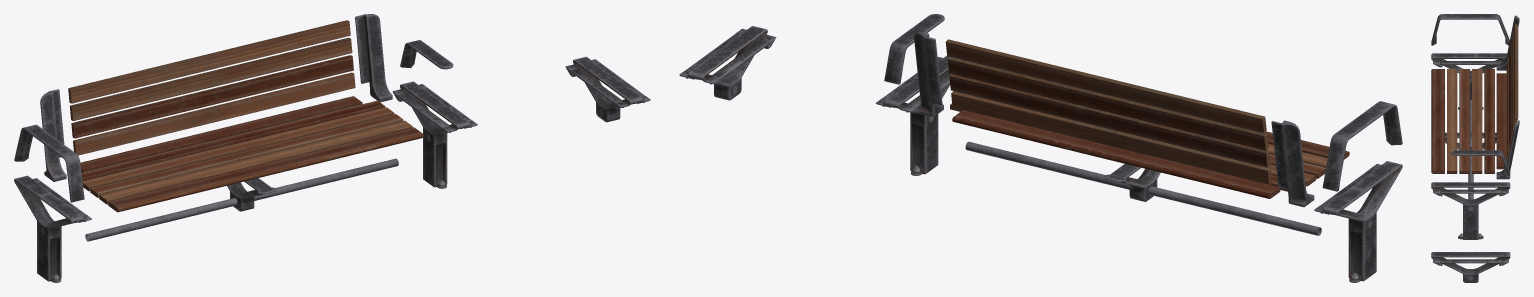
Rendered from seating.gltf.
The picture shows the model from 3 angles, left to right: view 1: azimuth 30°, elevation 25°; view 2: azimuth 150°, elevation 25°; view 3: azimuth 270°, elevation 25°; orthographic projection. The views are drawn at different scales.
Parts seen in each view (by area): view 1: seat_back, seat, legs_double, legs_single, crossbar, suspended_support_02, back_support_l, arm_rest_01, back_support_r, suspended_support_01, arm_rest_02; view 2: seat_back, seat, legs_single, crossbar, suspended_support_02, legs_double, arm_rest_01, back_support_r, back_support_l, arm_rest_02, suspended_support_01; view 3: seat, legs_double, suspended_support_02, seat_back, legs_single, arm_rest_01, arm_rest_02, back_support_l, back_support_r, crossbar, suspended_support_01.
Boxes of the visible parts, x1,y1,x2,y2 form: seat_back: [68, 20, 355, 155]; seat: [80, 96, 423, 212]; legs_double: [392, 81, 477, 188]; legs_single: [14, 175, 91, 282]; crossbar: [85, 158, 398, 241]; suspended_support_02: [565, 56, 650, 122]; back_support_l: [355, 14, 392, 102]; arm_rest_01: [14, 124, 84, 202]; back_support_r: [40, 89, 66, 181]; suspended_support_01: [227, 178, 275, 211]; arm_rest_02: [400, 40, 453, 69]; seat_back: [945, 39, 1271, 184]; seat: [950, 103, 1349, 198]; legs_single: [1314, 161, 1402, 282]; crossbar: [965, 141, 1321, 235]; suspended_support_02: [679, 26, 776, 100]; legs_double: [876, 55, 950, 175]; arm_rest_01: [1322, 101, 1402, 191]; back_support_r: [1271, 120, 1314, 207]; back_support_l: [914, 32, 943, 116]; arm_rest_02: [884, 14, 944, 84]; suspended_support_01: [1105, 164, 1160, 201]; seat: [1431, 69, 1507, 173]; legs_double: [1431, 182, 1510, 239]; suspended_support_02: [1431, 252, 1510, 282]; seat_back: [1506, 24, 1518, 160]; legs_single: [1431, 53, 1507, 109]; arm_rest_01: [1431, 14, 1509, 45]; arm_rest_02: [1451, 150, 1510, 174]; back_support_l: [1496, 120, 1519, 179]; back_support_r: [1496, 15, 1519, 70]; crossbar: [1468, 99, 1473, 199]; suspended_support_01: [1445, 132, 1496, 150].
Bounding box in the file's own units: 3.49 × 0.8669 × 0.6704.
Materials: 4 (4 with a texture image).
